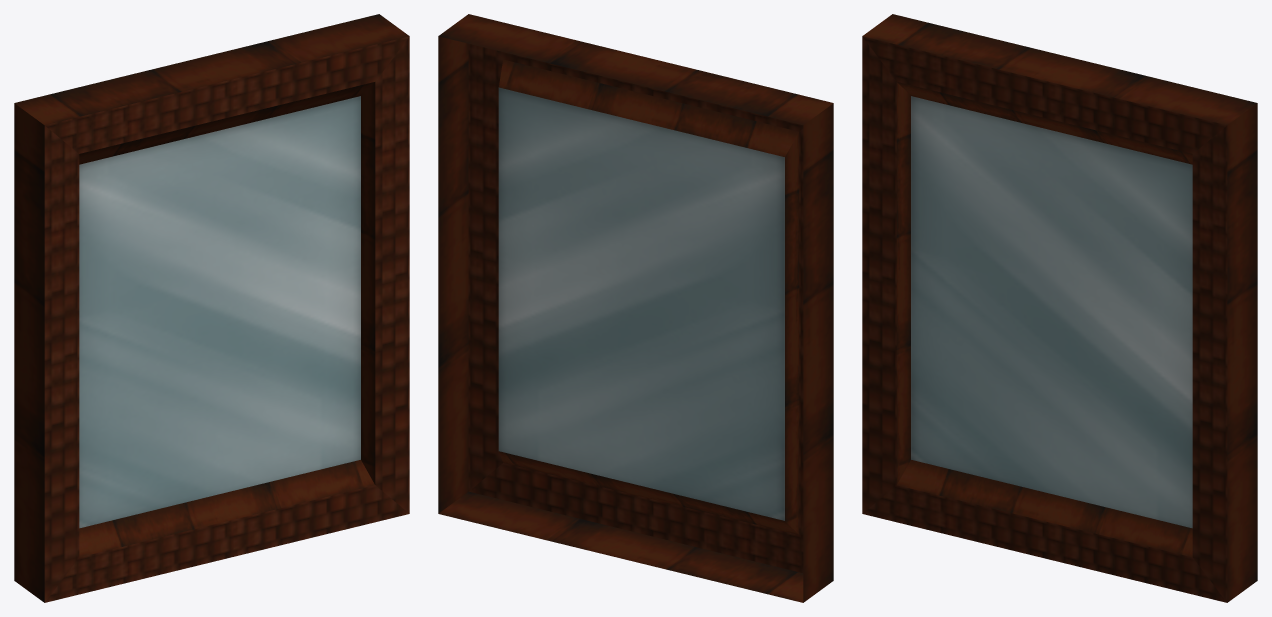
File: Rattan_Mirror_01.FBX
3 views of the same model, side by side, from view 1: azimuth 30°, elevation 25°; view 2: azimuth 150°, elevation 25°; view 3: azimuth 330°, elevation 25° (orthographic).
Parts seen in each view (by area): view 1: Rattan_Mirror_01; view 2: Rattan_Mirror_01; view 3: Rattan_Mirror_01.
Part boxes in pixels (left/top/right/bottom): Rattan_Mirror_01: left=14, top=14, right=409, bottom=602; Rattan_Mirror_01: left=438, top=14, right=833, bottom=602; Rattan_Mirror_01: left=862, top=14, right=1257, bottom=602.
Bounding box in the file's own units: 0.5321 × 0.0768 × 0.6651.
